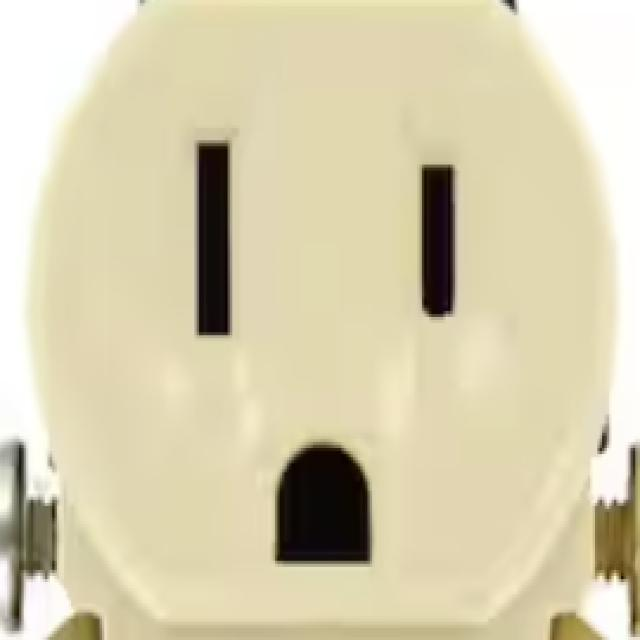type_b: (35, 13, 614, 623)
